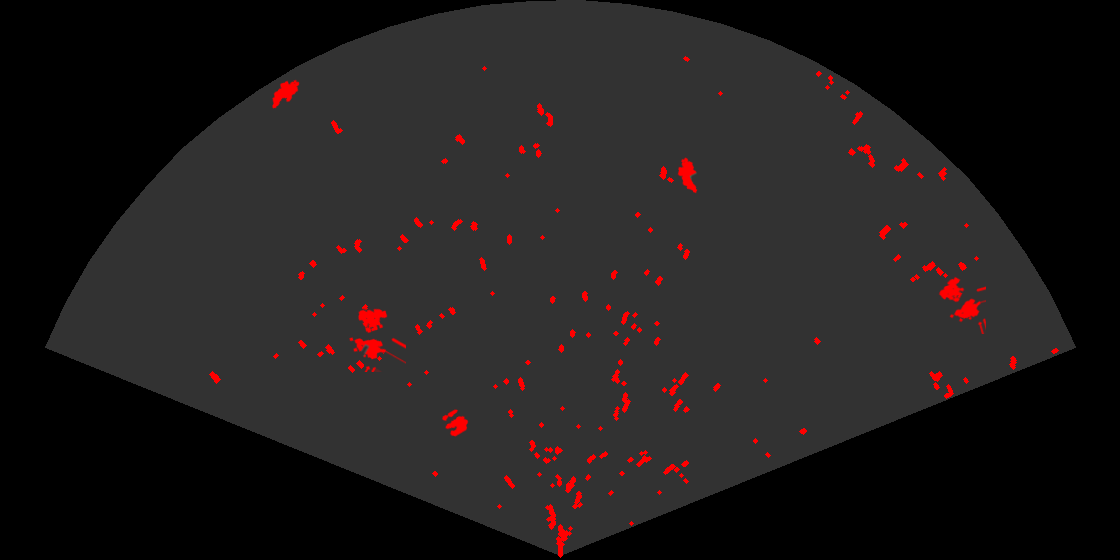AUV: (271, 78, 301, 110), (676, 156, 699, 195)
ball: (441, 408, 470, 438)
cage: (348, 307, 406, 372), (937, 275, 986, 334)
